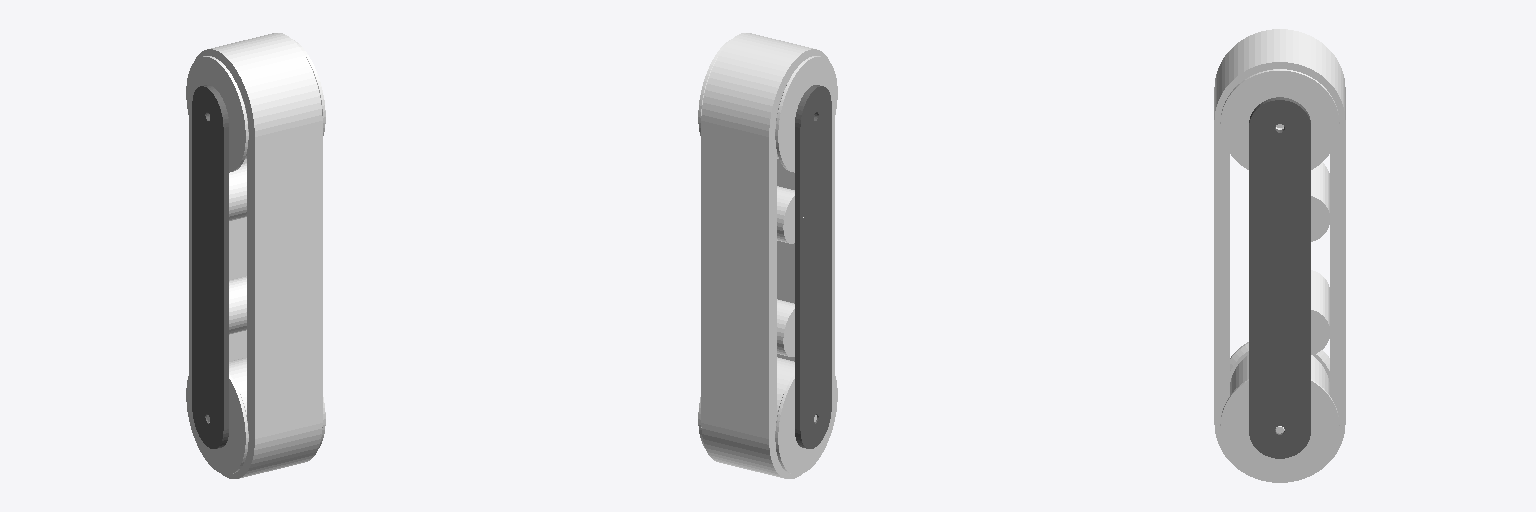
File: brazo_izq_frontal_v2.obj
The picture shows the model from 3 angles: view 1: azimuth 30°, elevation 25°; view 2: azimuth 150°, elevation 25°; view 3: azimuth 270°, elevation 25°; orthographic projection.
Visible parts, largest first — view 1: Object.1; view 2: Object.1; view 3: Object.1.
Boxes of the visible parts, box(x1,y1,x2,y2) form: Object.1: box(186, 33, 325, 478); Object.1: box(698, 33, 837, 478); Object.1: box(1214, 29, 1345, 482).
Size of the model in its own units: 107 by 446 by 126.